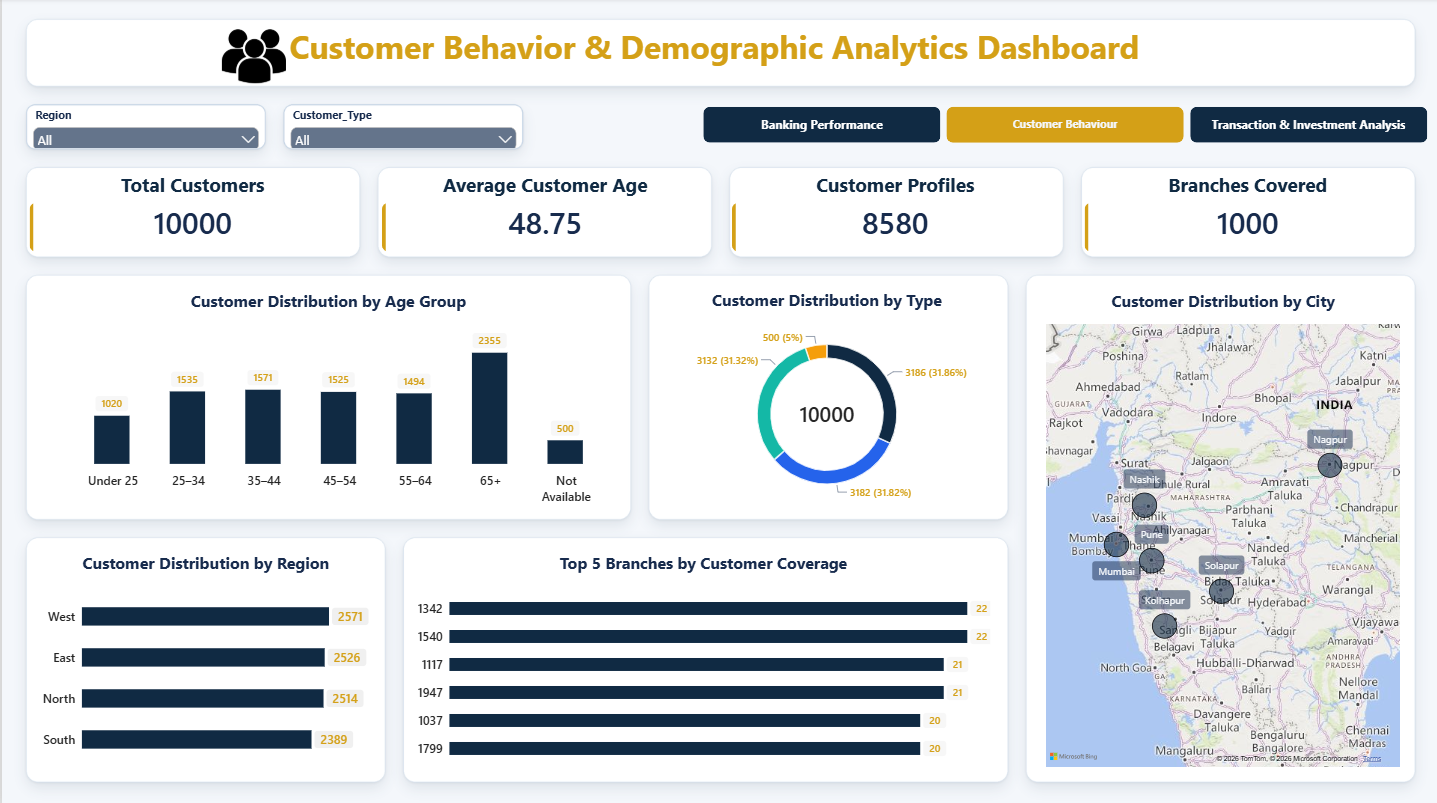

This screenshot's page, from the dashboard's own definition file:
{"tool":"powerbi","page":{"name":"Customer Behaviour","canvas":[1920,1080],"ordinal":1},"visuals":[{"type":"cardVisual","title":"Total Customers","fields":{"Data":["Measure.Total Customers"]},"box":[36.8,231.9,436.2,106.7],"z":0},{"type":"cardVisual","title":"Average Customer Age","fields":{"Data":["Measure.Average Customer Age"]},"box":[508,231.9,436.2,106.7],"z":1000},{"type":"cardVisual","title":"Customer Profiles","fields":{"Data":["Measure.Complete Profiles"]},"box":[975.5,231.9,436.2,106.7],"z":2000},{"type":"cardVisual","title":"Branches Covered","fields":{"Data":["Measure.Branches Covered"]},"box":[1446.6,231.9,436.2,106.7],"z":3000},{"type":"slicer","fields":{"Values":["Customer_Clean.Region"]},"box":[36.8,145.4,311,55.2],"z":4000},{"type":"slicer","fields":{"Values":["Customer_Clean.Customer_Type"]},"box":[381,145.4,311,55.2],"z":5000},{"type":"clusteredColumnChart","title":"Customer Distribution by Age Group","fields":{"Category":["Customer_Clean.Age Group"],"Y":["Measure.Unique Customers"]},"box":[36.8,375.5,798.8,320.2],"z":6000},{"type":"donutChart","title":"Customer Distribution by Type","fields":{"Category":["Customer_Clean.Customer_Type"],"Y":["Measure.Unique Customers"]},"box":[868.7,373.6,467.5,320.2],"z":7000},{"type":"clusteredBarChart","title":"Customer Distribution by Region","fields":{"Category":["Customer_Clean.Region"],"Y":["Measure.Unique Customers"]},"box":[36.8,725.2,471.2,318.4],"z":8000},{"type":"clusteredBarChart","title":"Top 5 Branches by Customer Coverage","fields":{"Category":["Customer_Clean.Branch_ID"],"Y":["Measure.Unique Customers"]},"box":[537.4,725.2,798.8,318.4],"z":9000},{"type":"map","title":"Customer Distribution by City","fields":{"Category":["Customer_Clean.City"],"Size":["Measure.Unique Customers"]},"box":[1378.5,375.5,504.3,668.1],"z":10000},{"type":"textbox","box":[383.5,34.7,1153.1,85.7],"z":11000},{"type":"image","box":[289.8,34.7,91.8,85.7],"z":12000},{"type":"pageNavigator","box":[936.7,144.9,969.4,49],"z":13000}]}

Visuals, with their boxes in screenshot pixels (x1, y1, x2, y2), scaled from the page's 1920x1080 canvas onto the 1437x803 screenshot:
"Total Customers" cardVisual: 28,172,354,252
"Average Customer Age" cardVisual: 380,172,707,252
"Customer Profiles" cardVisual: 730,172,1057,252
"Branches Covered" cardVisual: 1083,172,1409,252
slicer - Customer_Clean.Region: 28,108,260,149
slicer - Customer_Clean.Customer_Type: 285,108,518,149
"Customer Distribution by Age Group" clusteredColumnChart: 28,279,625,517
"Customer Distribution by Type" donutChart: 650,278,1000,516
"Customer Distribution by Region" clusteredBarChart: 28,539,380,776
"Top 5 Branches by Customer Coverage" clusteredBarChart: 402,539,1000,776
"Customer Distribution by City" map: 1032,279,1409,776
textbox: 287,26,1150,90
image: 217,26,286,90
pageNavigator: 701,108,1427,144
